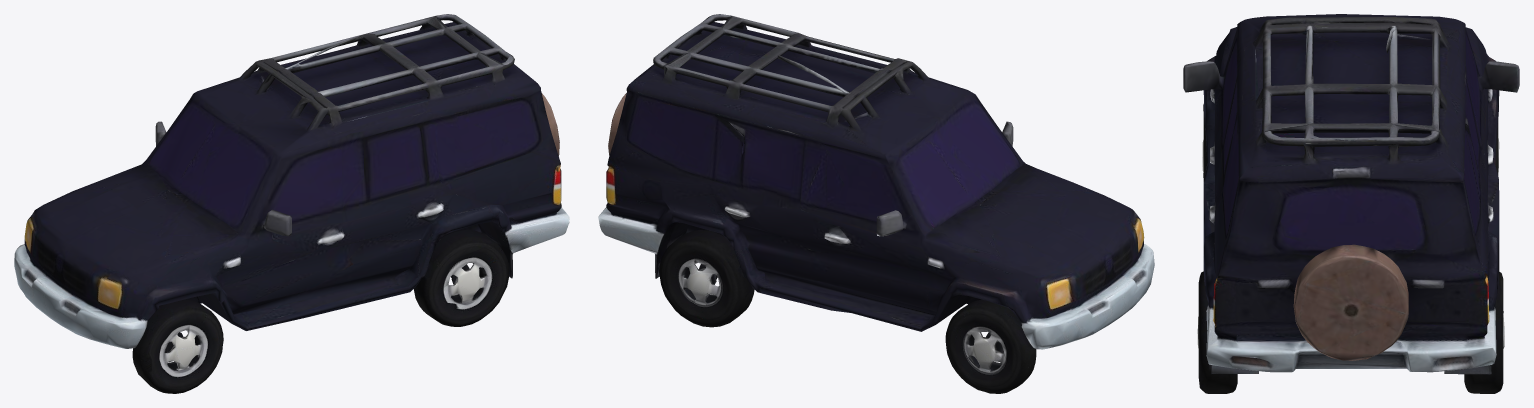
File: suv.glb
3 renders of one model, left to right at view 1: azimuth 30°, elevation 25°; view 2: azimuth 150°, elevation 25°; view 3: azimuth 270°, elevation 25°, orthographic. The views are drawn at different scales.
Size of the model in its own units: 1.9 by 0.9098 by 0.873.
1 material, 1 textured.
